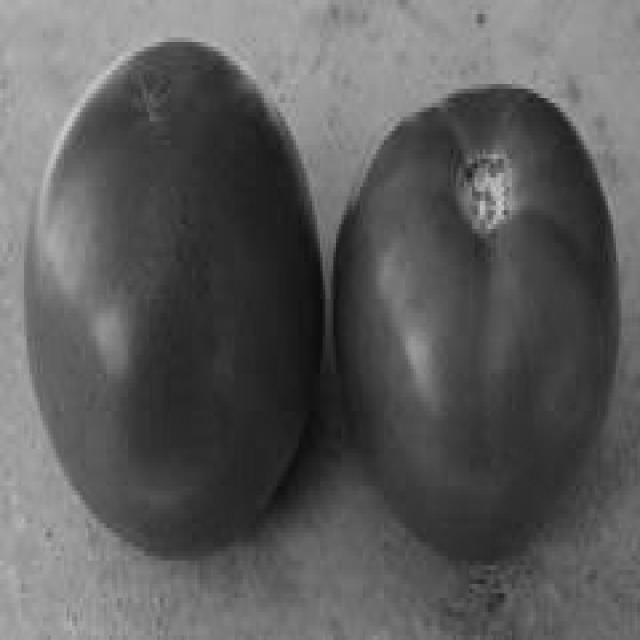Fresh_tomato: (32, 55, 317, 521), (344, 113, 615, 536)
